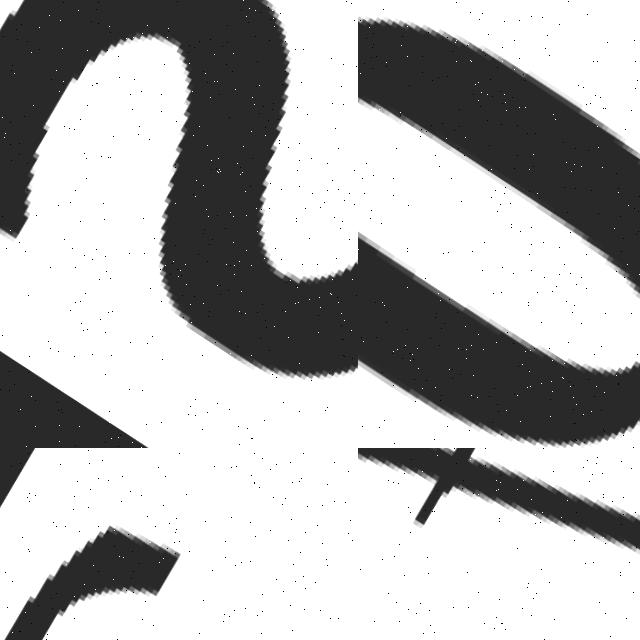0: (358, 0, 640, 448)
2: (0, 448, 358, 640)
F: (358, 448, 640, 640)
S: (0, 0, 358, 448)
